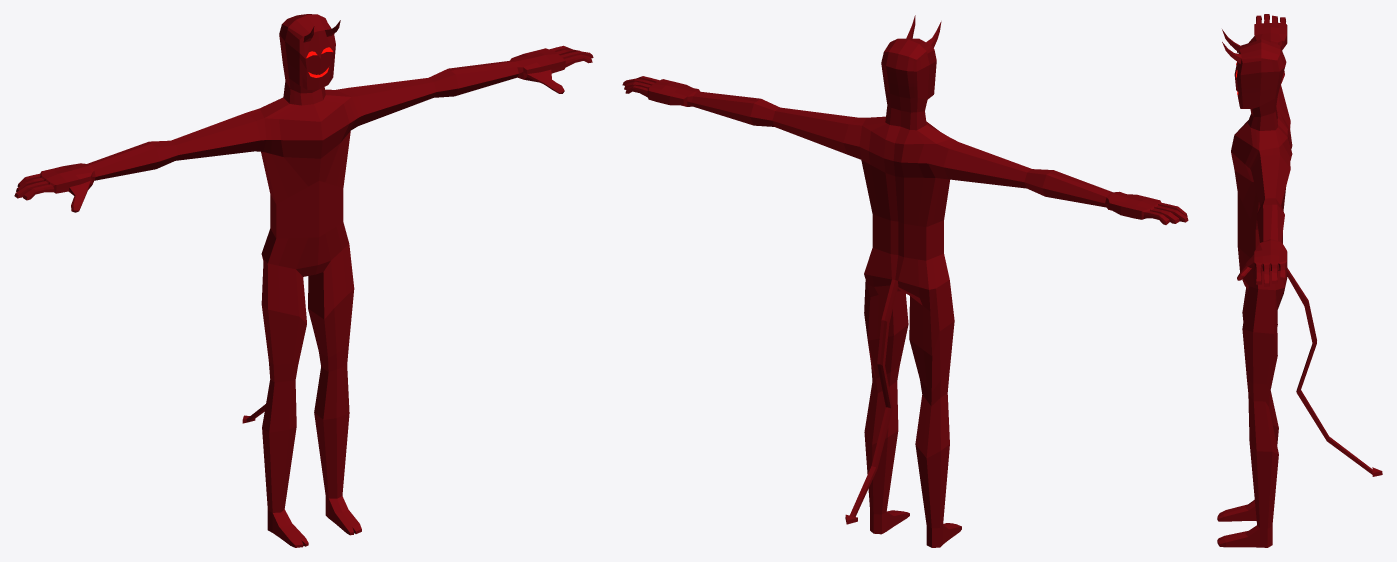
Rendered from spirit_version_red_01.fbx.
The picture shows the model from 3 angles, left to right: view 1: azimuth 30°, elevation 25°; view 2: azimuth 150°, elevation 25°; view 3: azimuth 270°, elevation 25°; orthographic projection. The views are drawn at different scales.
Visible parts, largest first — view 1: Cube; view 2: Cube; view 3: Cube.
Boxes of the visible parts, x1,y1,x2,y2 form: Cube: (14, 14, 593, 547); Cube: (622, 15, 1188, 547); Cube: (1217, 14, 1382, 547).
Bounding box in the file's own units: 2570 × 2201 × 664.
